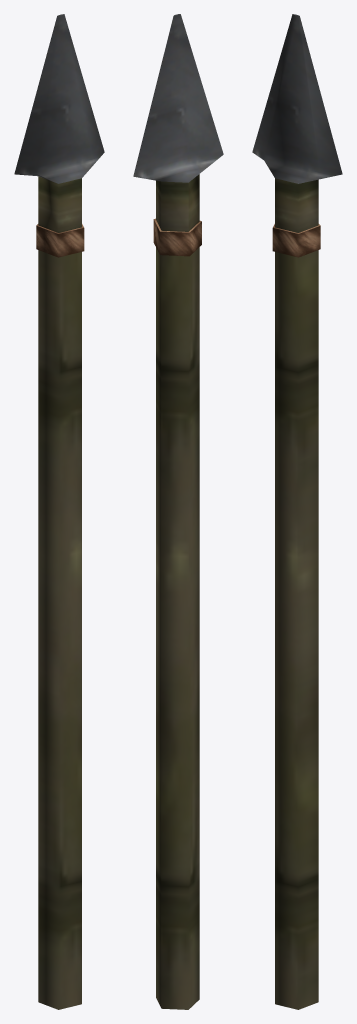
Rendered from spear-01.fbx.
3 renders of one model, left to right at view 1: azimuth 30°, elevation 25°; view 2: azimuth 210°, elevation 25°; view 3: azimuth 330°, elevation 25°, orthographic.
Parts seen in each view (by area): view 1: Cylinder.066; view 2: Cylinder.066; view 3: Cylinder.066.
Boxes of the visible parts, x1,y1,x2,y2 form: Cylinder.066: (14,14,104,1009); Cylinder.066: (133,14,223,1009); Cylinder.066: (252,14,342,1009).
Size of the model in its own units: 0.1304 by 1.36 by 0.0573.
